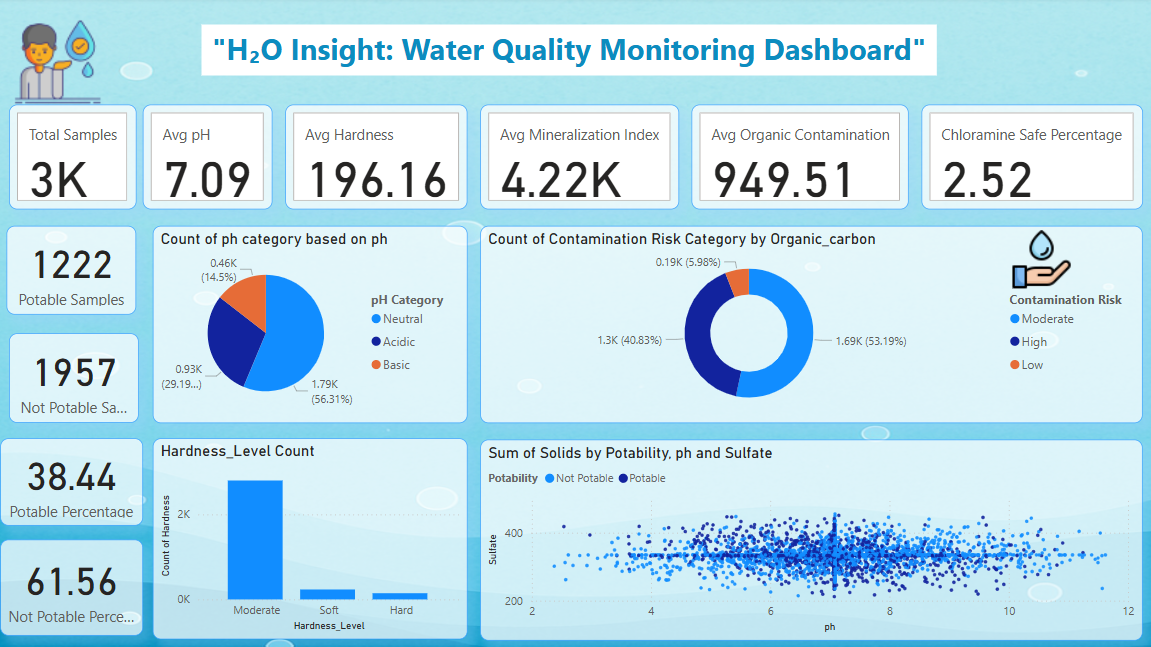

The page's visual inventory and layout, read from the dashboard file:
{"tool":"powerbi","page":{"name":"Page 1","canvas":[1280,720],"ordinal":0},"visuals":[{"type":"cardVisual","fields":{"Data":["water_quality_metrics.Total Samples"]},"box":[15.1,118,140,115.3],"z":0},{"type":"card","fields":{"Values":["water_quality_metrics.Potable_Samples"]},"box":[12.3,251.1,142.7,97.4],"z":1000},{"type":"card","fields":{"Values":["water_quality_metrics.Not Potable Samples"]},"box":[12.3,369.1,142.7,98.8],"z":2000},{"type":"card","fields":{"Values":["water_quality_metrics.Potable Percentage"]},"box":[12.3,484.4,156.4,96.1],"z":3000},{"type":"card","fields":{"Values":["water_quality_metrics.Not Potable Percentage"]},"box":[12.3,599.7,156.4,105.7],"z":4000},{"type":"cardVisual","fields":{"Data":["water_quality_metrics.Avg pH"]},"box":[168.8,118,142.7,115.3],"z":5000},{"type":"cardVisual","fields":{"Data":["water_quality_metrics.Avg Hardness"]},"box":[325.2,118,200.3,115.3],"z":6000},{"type":"cardVisual","fields":{"Data":["water_quality_metrics.Avg Mineralization Index"]},"box":[539.3,118,218.2,115.3],"z":7000},{"type":"cardVisual","fields":{"Data":["water_quality_metrics.Avg Organic Contamination"]},"box":[771.2,118,238.8,115.3],"z":8000},{"type":"cardVisual","fields":{"Data":["water_quality_metrics.Chloramine Safe Percentage"]},"box":[1023.7,118,242.9,115.3],"z":9000},{"type":"pieChart","title":"Count of ph category based on ph","fields":{"Category":["water_quality_metrics.pH Category"],"Y":["CountNonNull(water_quality_metrics.ph)"]},"box":[179.8,251.1,345.8,216.8],"z":10000},{"type":"donutChart","title":"Count of Contamination Risk Category by Organic_carbon ","fields":{"Category":["water_quality_metrics.Contamination Risk"],"Y":["CountNonNull(water_quality_metrics.Organic_carbon)"]},"box":[539.3,251.1,727.3,216.8],"z":11000},{"type":"columnChart","title":"Hardness_Level Count","fields":{"Category":["water_quality_metrics.Hardness_Level"],"Y":["CountNonNull(water_quality_metrics.Hardness)"]},"box":[179.8,484.4,345.8,220.9],"z":12000},{"type":"scatterChart","fields":{"X":["water_quality_metrics.ph"],"Y":["water_quality_metrics.Sulfate"],"Series":["water_quality_metrics.Potability"],"Size":["Sum(water_quality_metrics.Solids)"]},"box":[539.3,484.4,727.3,220.9],"z":13000},{"type":"textbox","box":[233.3,30.2,806.9,56.3],"z":14000},{"type":"image","box":[15.1,16.5,120.8,109.8],"z":15000},{"type":"image","box":[1111.5,251.1,87.8,74.1],"z":16000}]}

Visuals, with their boxes in screenshot pixels (x1, y1, x2, y2), scaled from the page's 1280x720 canvas onto the 1151x647 screenshot:
cardVisual - water_quality_metrics.Total Samples: Rect(14, 106, 139, 210)
card - water_quality_metrics.Potable_Samples: Rect(11, 226, 139, 313)
card - water_quality_metrics.Not Potable Samples: Rect(11, 332, 139, 420)
card - water_quality_metrics.Potable Percentage: Rect(11, 435, 152, 522)
card - water_quality_metrics.Not Potable Percentage: Rect(11, 539, 152, 634)
cardVisual - water_quality_metrics.Avg pH: Rect(152, 106, 280, 210)
cardVisual - water_quality_metrics.Avg Hardness: Rect(292, 106, 473, 210)
cardVisual - water_quality_metrics.Avg Mineralization Index: Rect(485, 106, 681, 210)
cardVisual - water_quality_metrics.Avg Organic Contamination: Rect(693, 106, 908, 210)
cardVisual - water_quality_metrics.Chloramine Safe Percentage: Rect(921, 106, 1139, 210)
"Count of ph category based on ph" pieChart: Rect(162, 226, 473, 420)
"Count of Contamination Risk Category by Organic_carbon " donutChart: Rect(485, 226, 1139, 420)
"Hardness_Level Count" columnChart: Rect(162, 435, 473, 634)
scatterChart - water_quality_metrics.ph x water_quality_metrics.Sulfate: Rect(485, 435, 1139, 634)
textbox: Rect(210, 27, 935, 78)
image: Rect(14, 15, 122, 113)
image: Rect(999, 226, 1078, 292)
